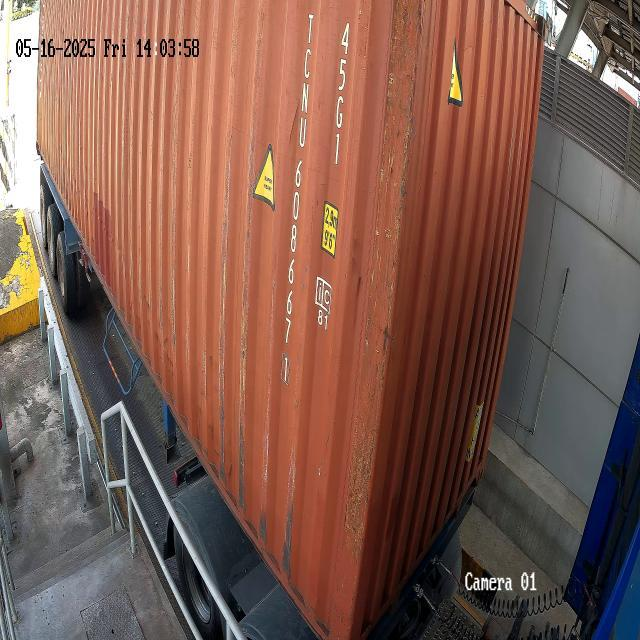ISO: (333, 19, 353, 173)
container_number: (267, 0, 316, 393)
